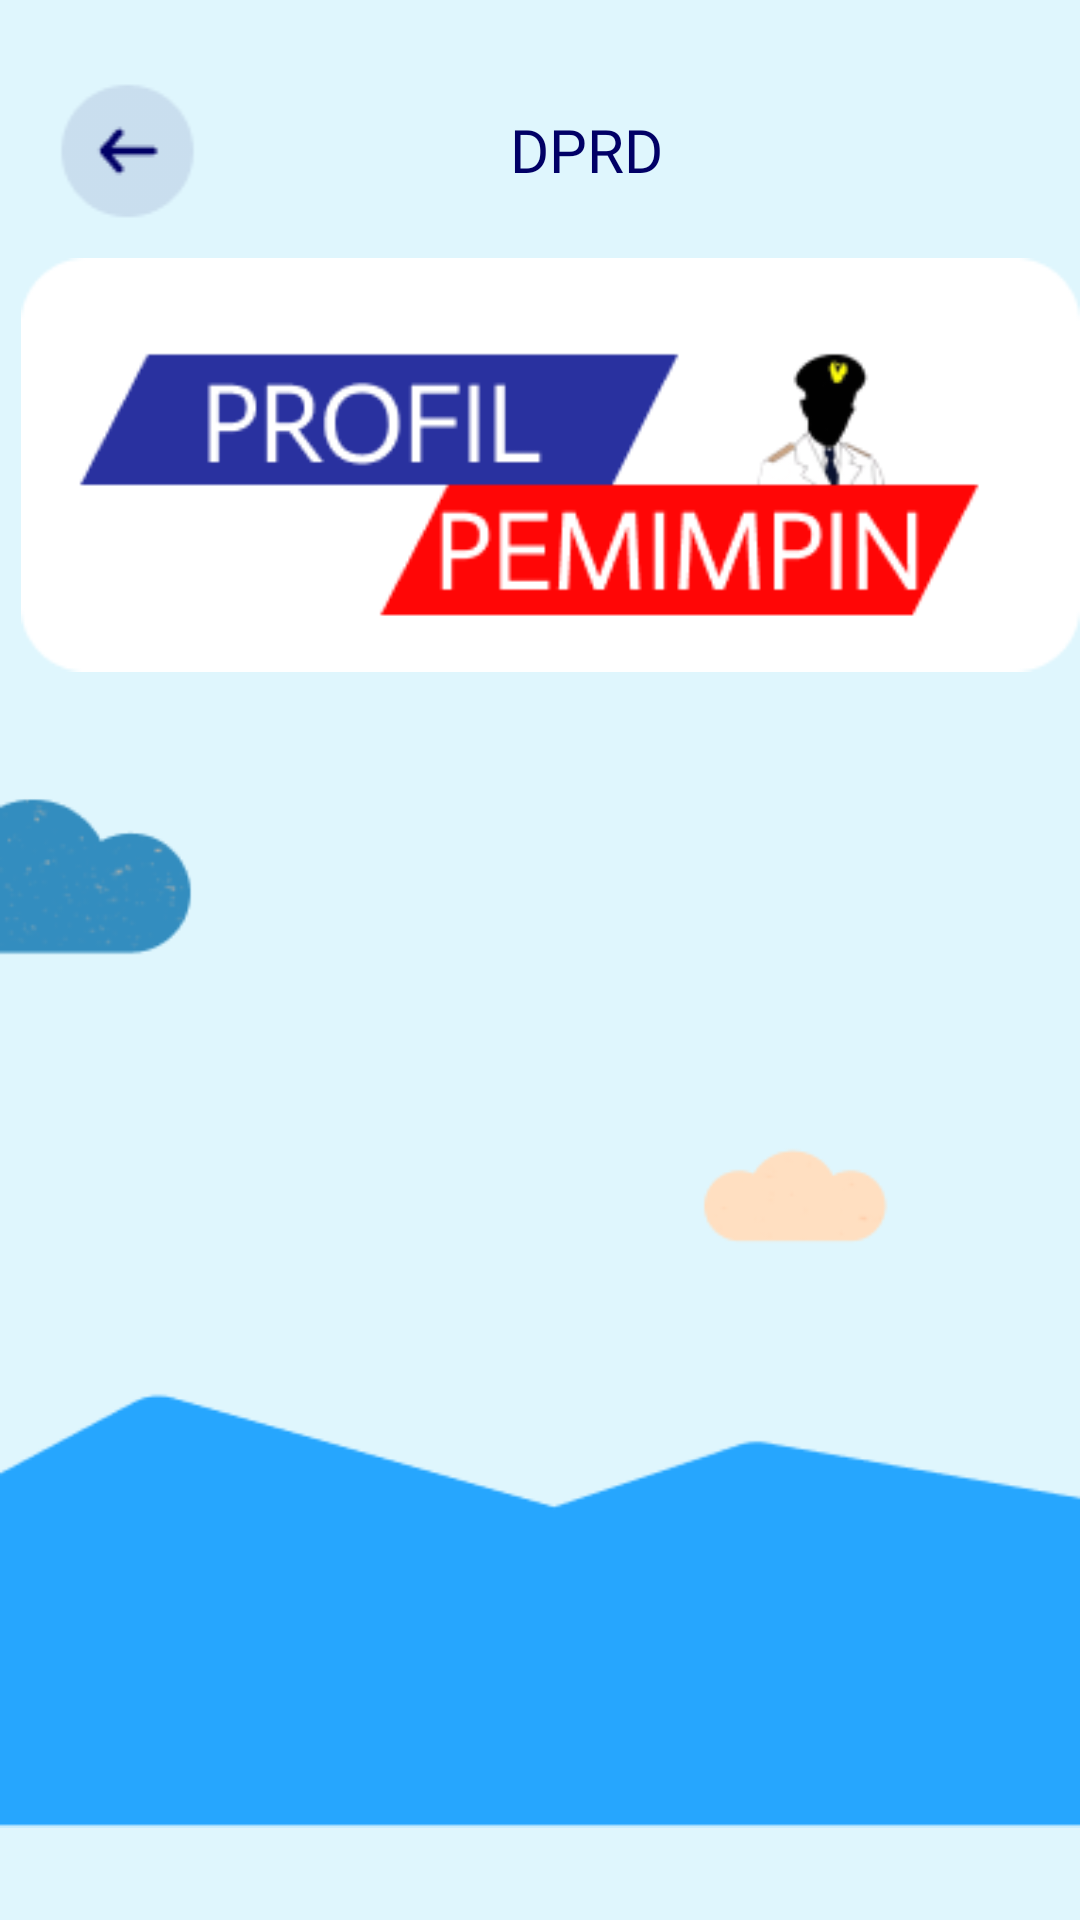

Icon click points for this 1080px×1920px phone screenshot, format point (x, y):
back: point (127, 151)
